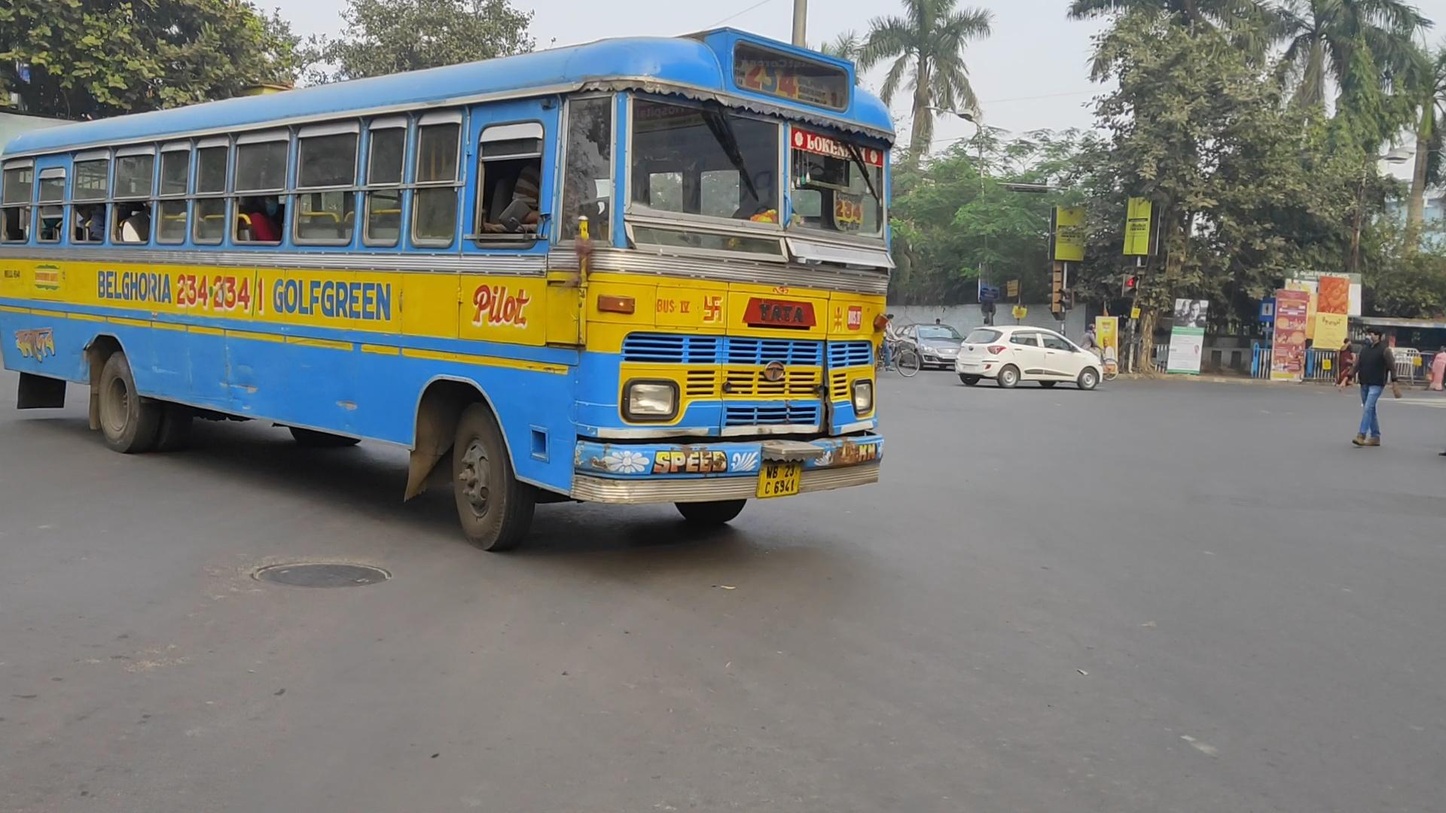Bus: (2, 26, 896, 553)
bike: (876, 312, 920, 378), (1070, 324, 1119, 382)
car: (956, 324, 1103, 391), (894, 322, 969, 371)
